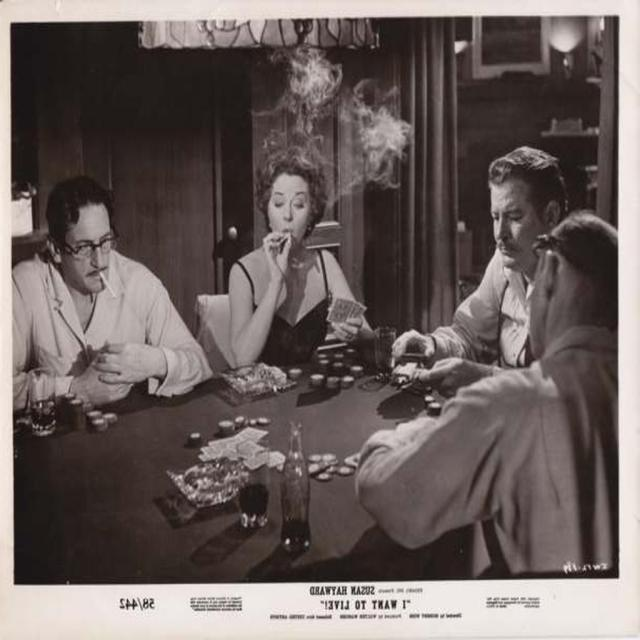smoking: (40, 163, 119, 309), (255, 140, 330, 274)
